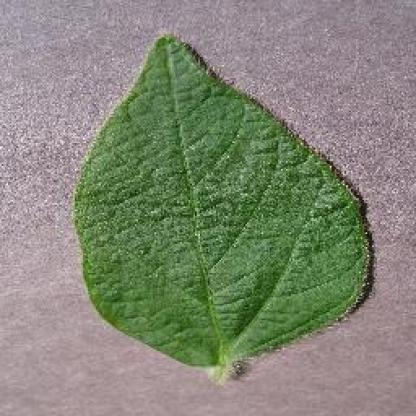soy: (69, 30, 383, 392)
